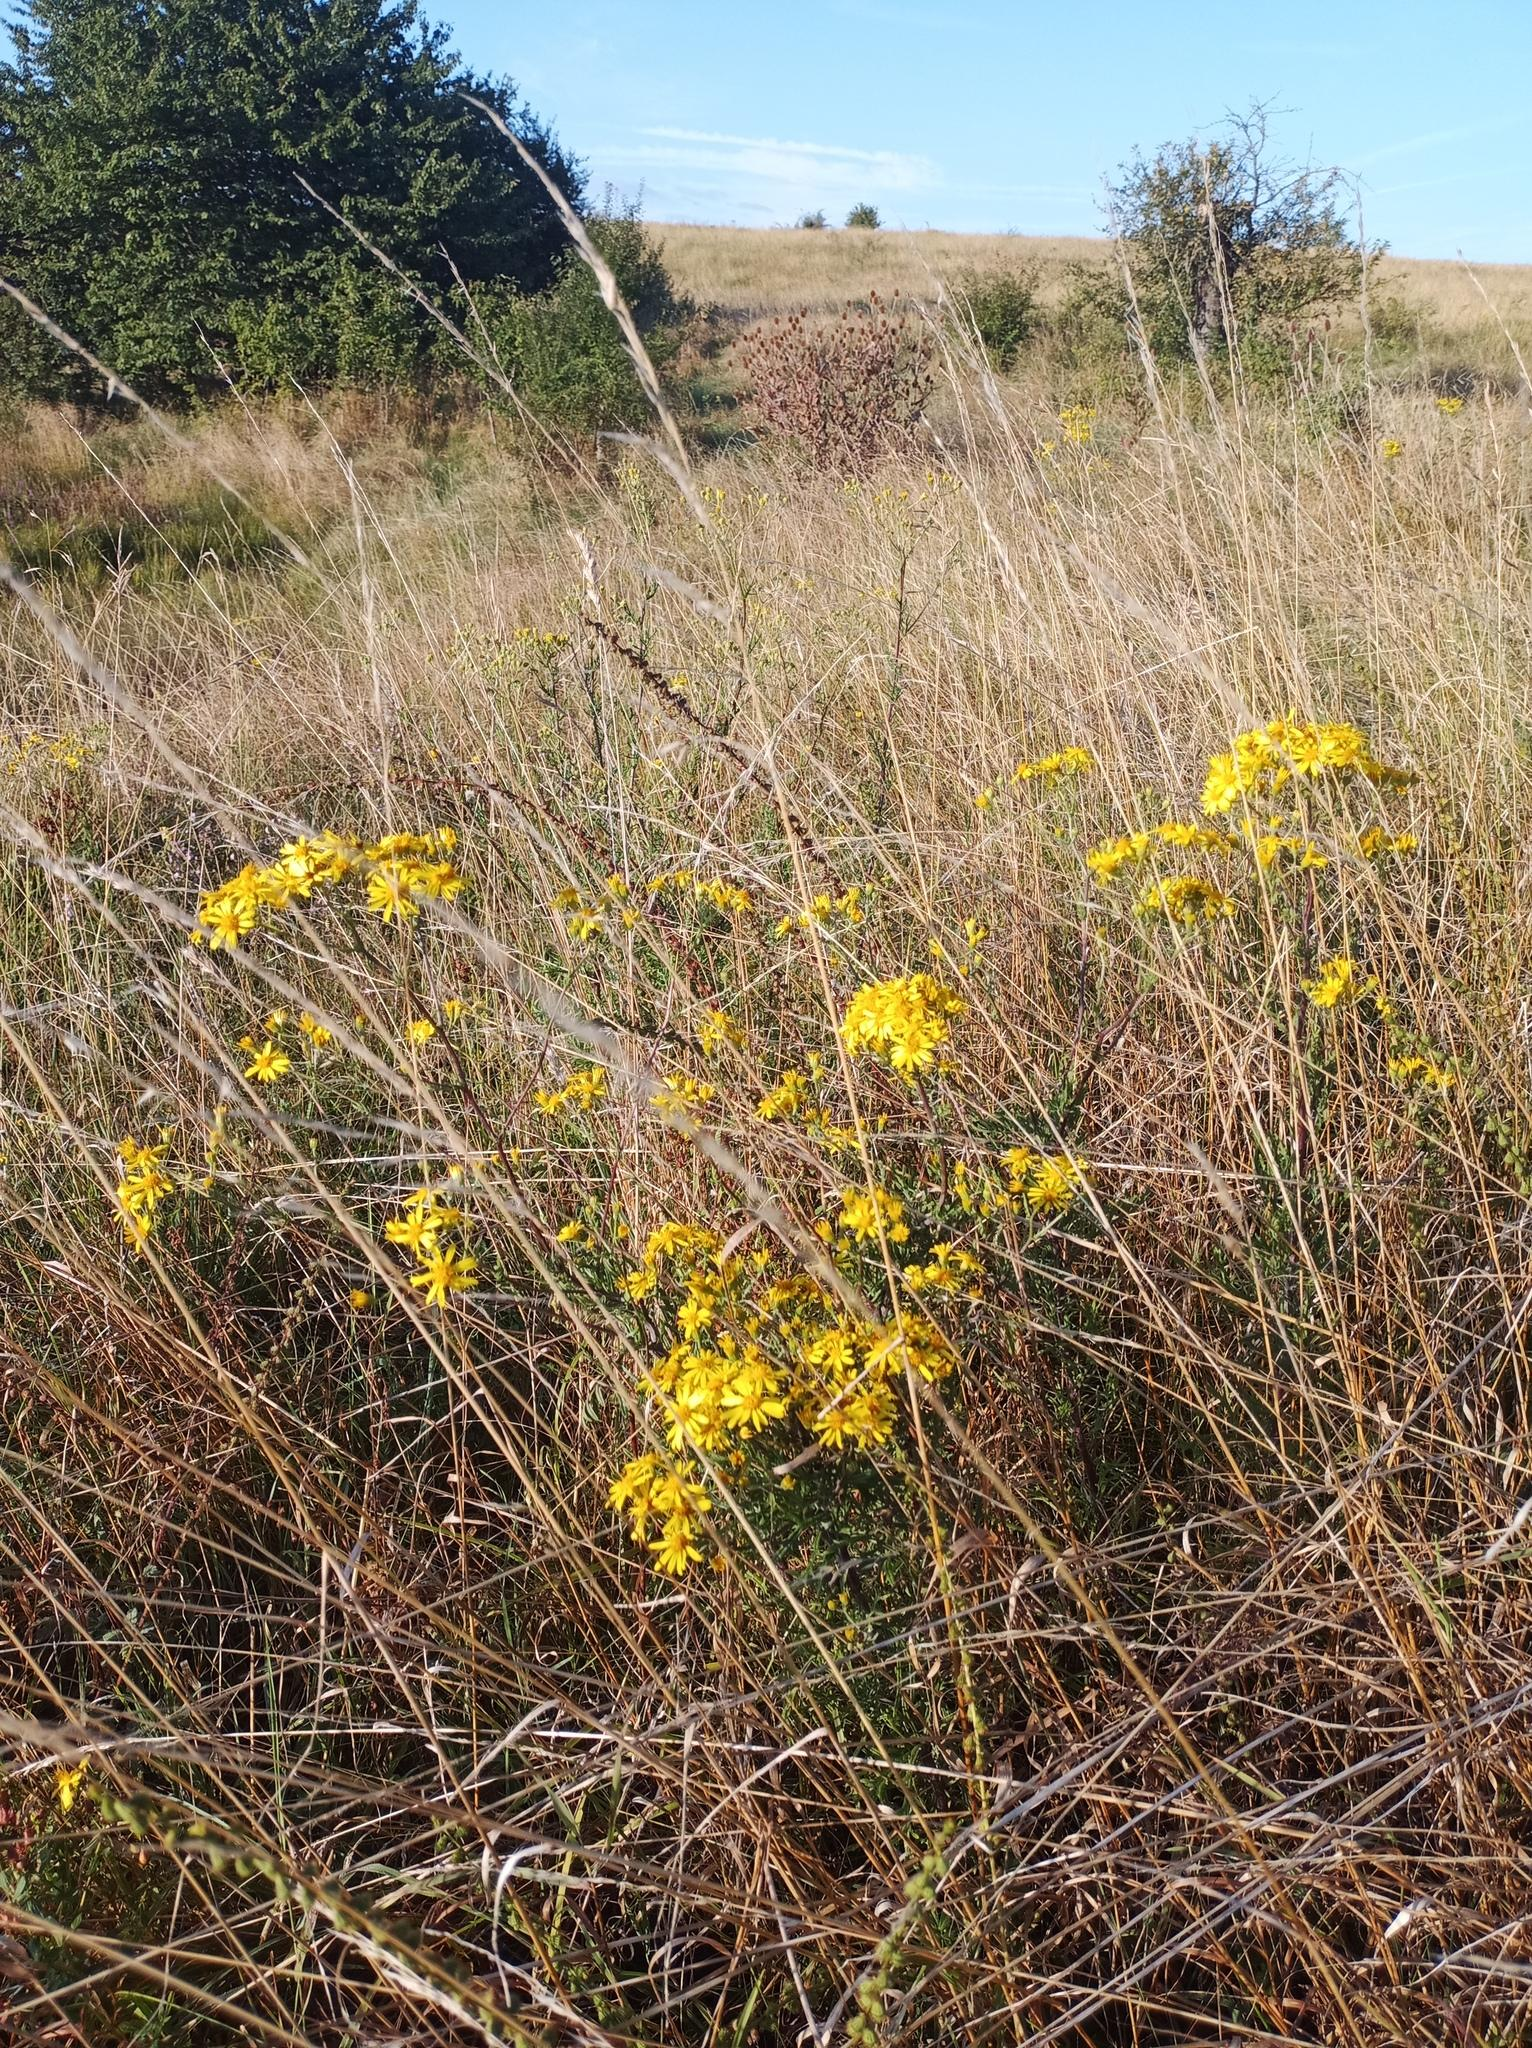Jacobaea vulgaris: (536, 793, 1086, 1657), (124, 796, 520, 1654), (1089, 684, 1460, 1464)
